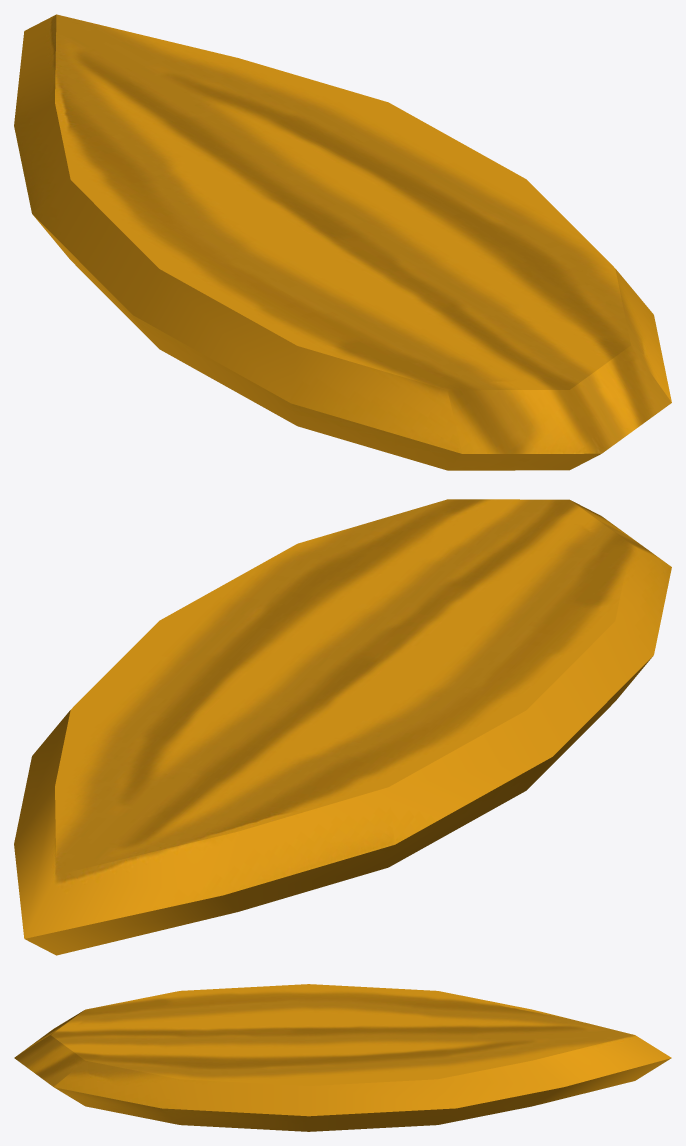
The model's file is 種子-胡蘿蔔.FBX.
3 renders of one model, top to bottom at view 1: azimuth 30°, elevation 25°; view 2: azimuth 150°, elevation 25°; view 3: azimuth 270°, elevation 25°, orthographic. The views are drawn at different scales.
Parts seen in each view (by area): view 1: ChamferCyl001; view 2: ChamferCyl001; view 3: ChamferCyl001.
Part boxes in pixels (box(x1,y1,x2,y2)): ChamferCyl001: box(14, 14, 671, 470); ChamferCyl001: box(14, 499, 671, 955); ChamferCyl001: box(14, 984, 671, 1131).
Bounding box in the file's own units: 12.47 × 2.28 × 29.75.
1 material, 1 textured.
